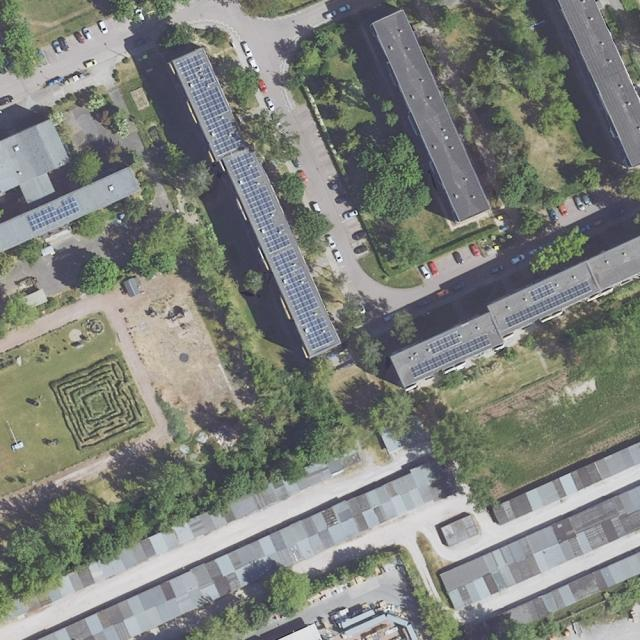PV: (178, 52, 244, 157), (228, 152, 291, 253), (272, 249, 332, 349), (505, 280, 593, 327), (409, 334, 490, 377), (26, 196, 80, 233), (427, 329, 463, 352), (528, 281, 557, 301)
